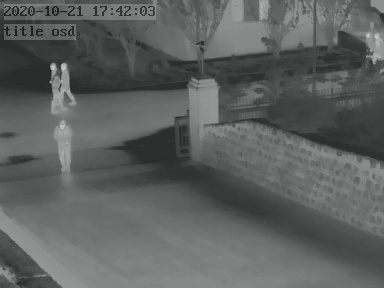person: (54, 117, 74, 171), (57, 61, 76, 111), (47, 61, 62, 110), (371, 32, 384, 66)
